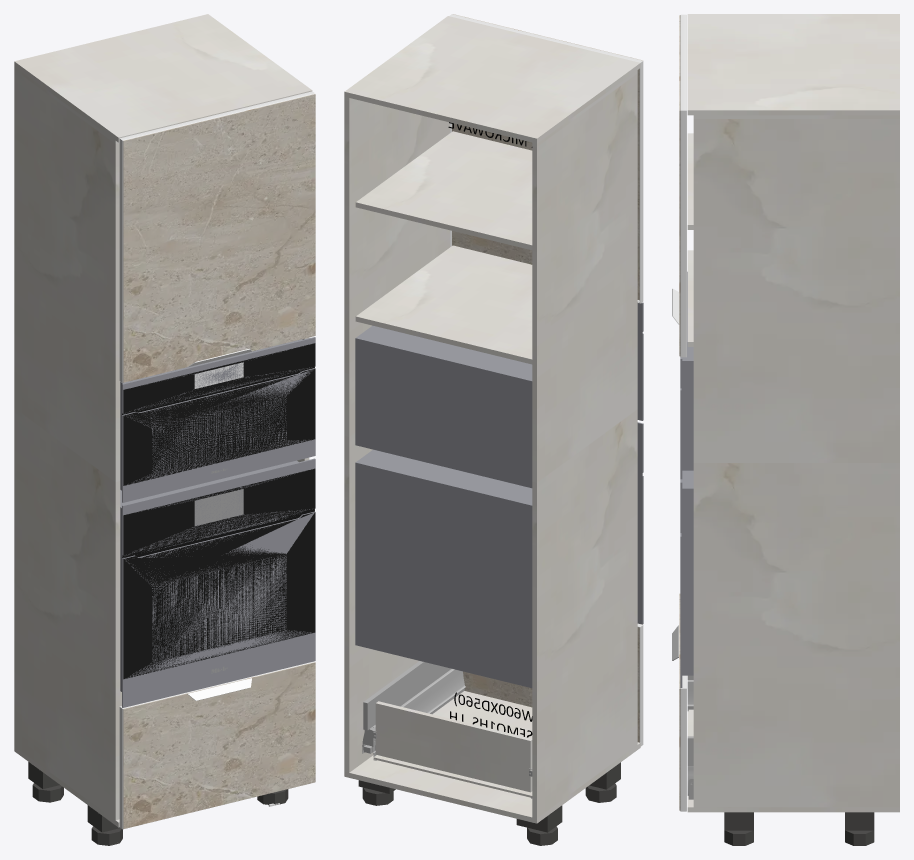
File: TC1S1EHSFMO1HS_LH (H2040XW600XD560).glb
The picture shows the model from 3 angles, left to right: view 1: azimuth 30°, elevation 25°; view 2: azimuth 150°, elevation 25°; view 3: azimuth 270°, elevation 25°; orthographic projection. The views are drawn at different scales.
Size of what is drawn, in the model's own units: 0.6 by 2.14 by 0.6.
10 materials, 2 textured.
